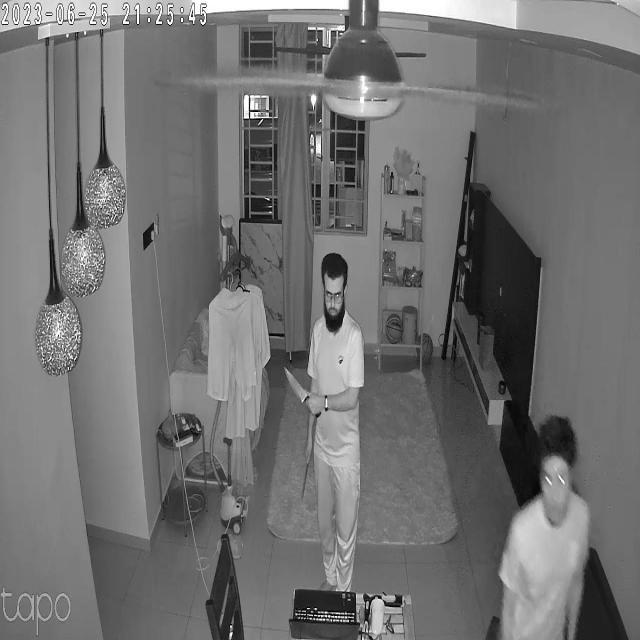Knife: (281, 359, 320, 418), (294, 457, 314, 510)
